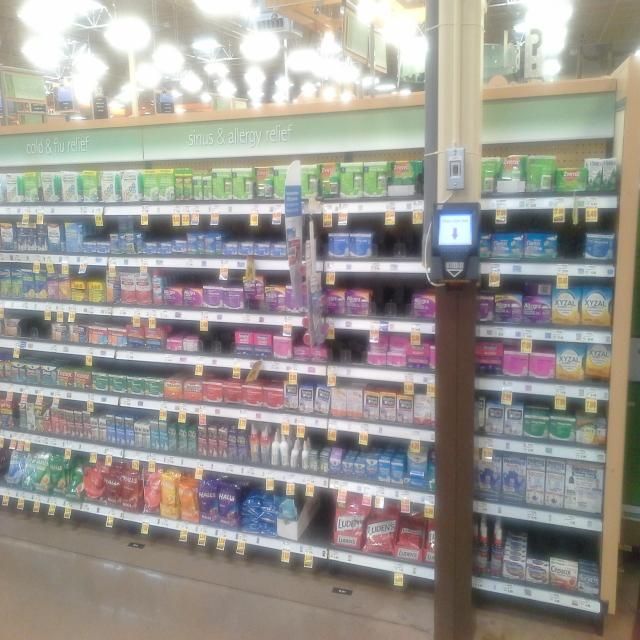empty_space: (533, 532, 599, 558), (375, 228, 428, 260), (223, 220, 284, 244), (314, 490, 336, 548), (558, 223, 582, 262), (25, 311, 52, 340), (143, 213, 171, 237), (177, 219, 220, 233), (83, 219, 107, 244), (111, 221, 137, 233)
